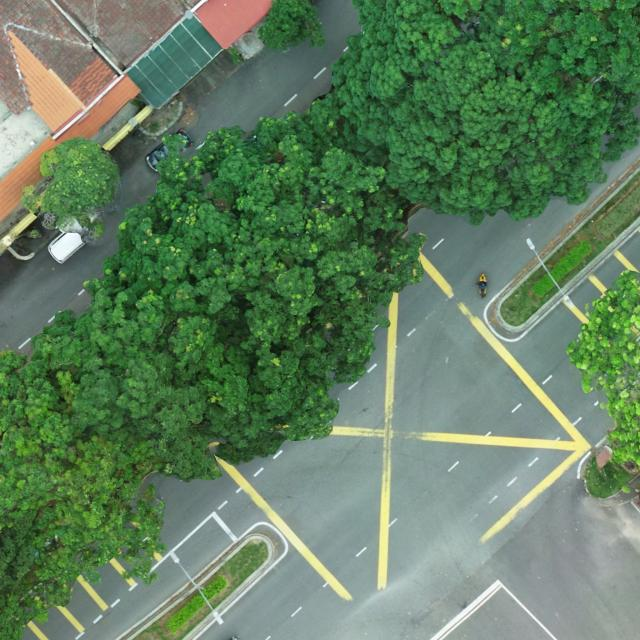tree: (29, 108, 429, 484), (308, 0, 640, 227), (0, 347, 166, 640), (566, 268, 640, 474), (20, 136, 121, 238), (257, 0, 326, 54)
